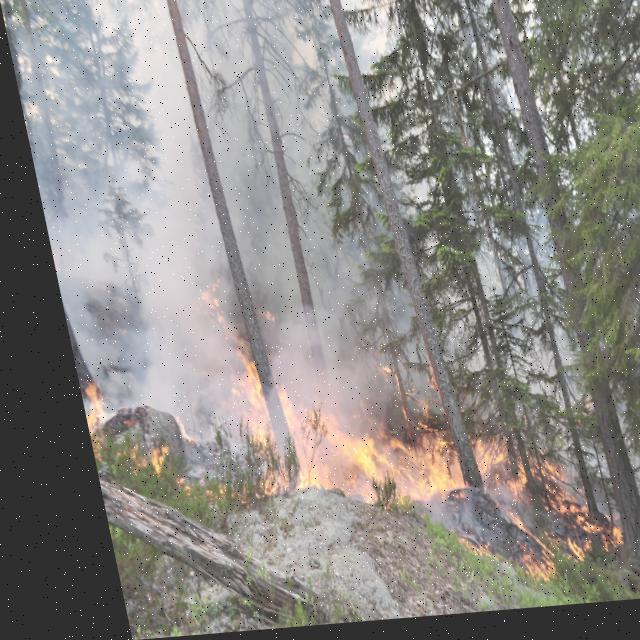Fire: (182, 270, 606, 600)
